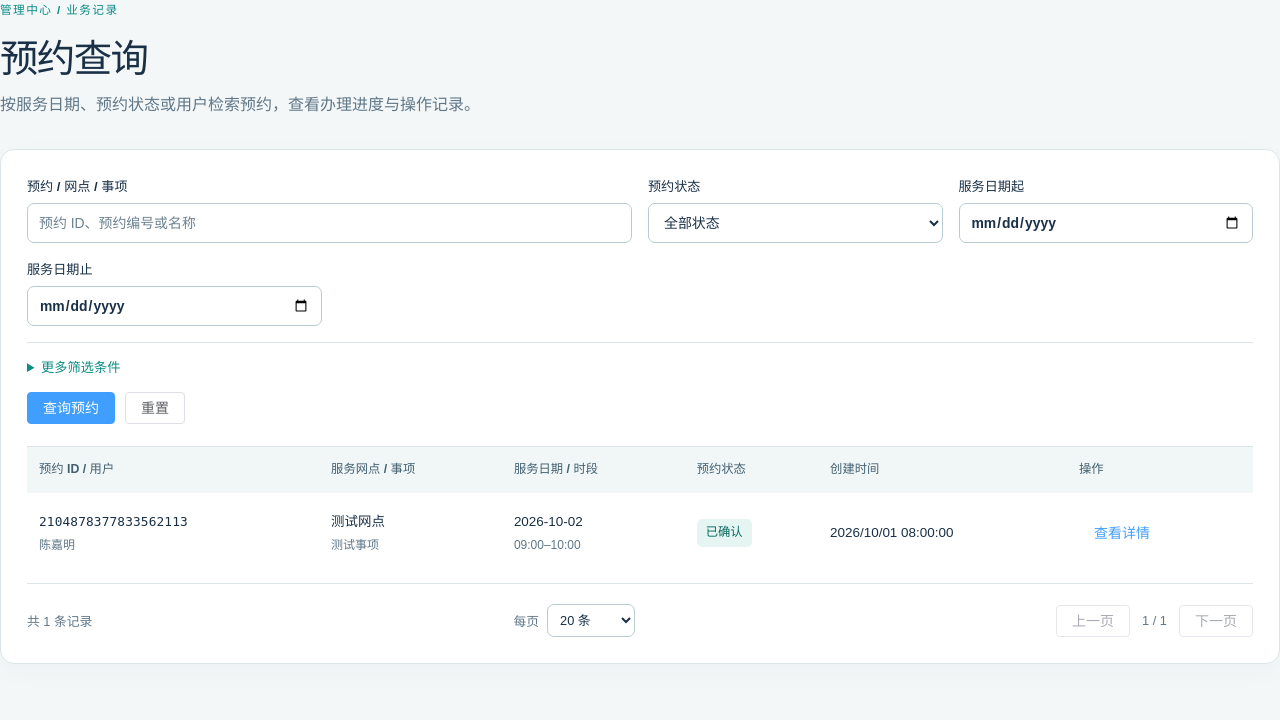
it: administrator query pages › queries server data with an exact ID and validates the date range
Check: the cell "2104878377833562113 陈嘉明" is shown, box [27,493,319,573]
Type "2104878377833562113" into the field with placeholder "预约 ID、预约编号或名称" at (330, 223), box [27,203,632,243]
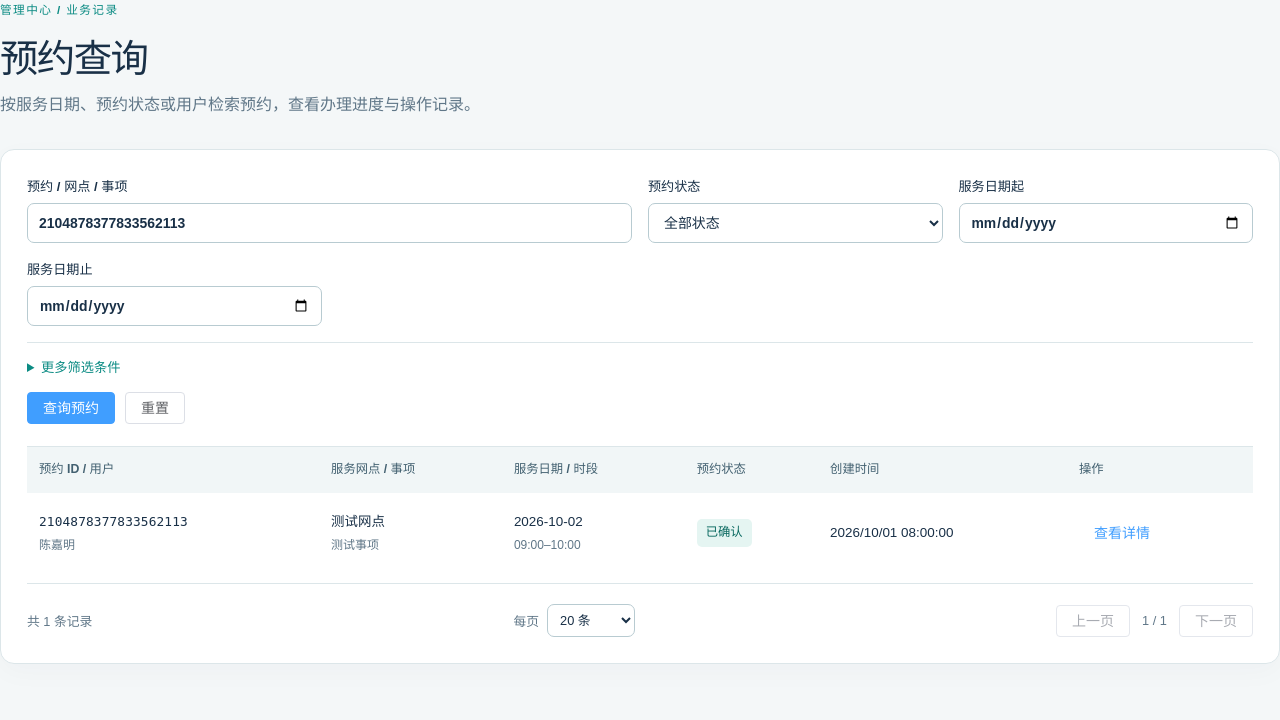
Submit the form, box [27,176,1253,424]
Type "2026-10-03" into the date field labelled "服务日期起" at (1106, 223), box [958,203,1253,243]
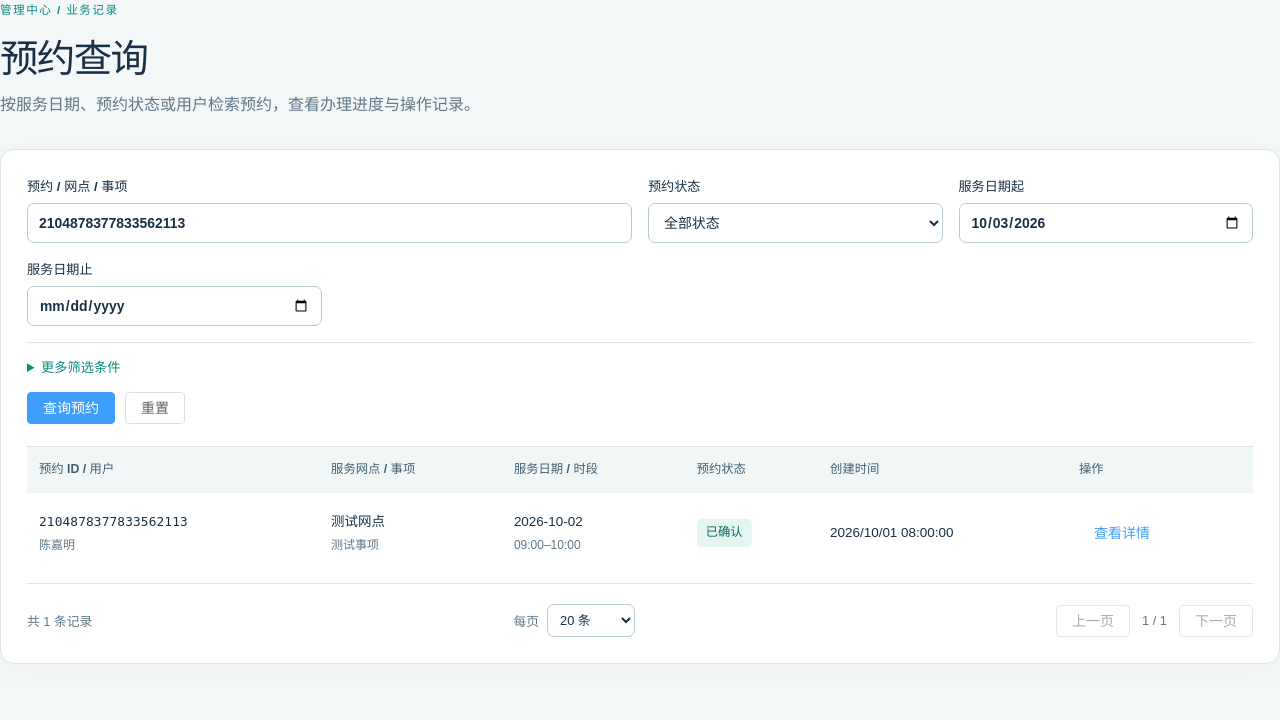
Type "2026-10-02" into the date field labelled "服务日期止" at (174, 306), box [27,286,322,326]
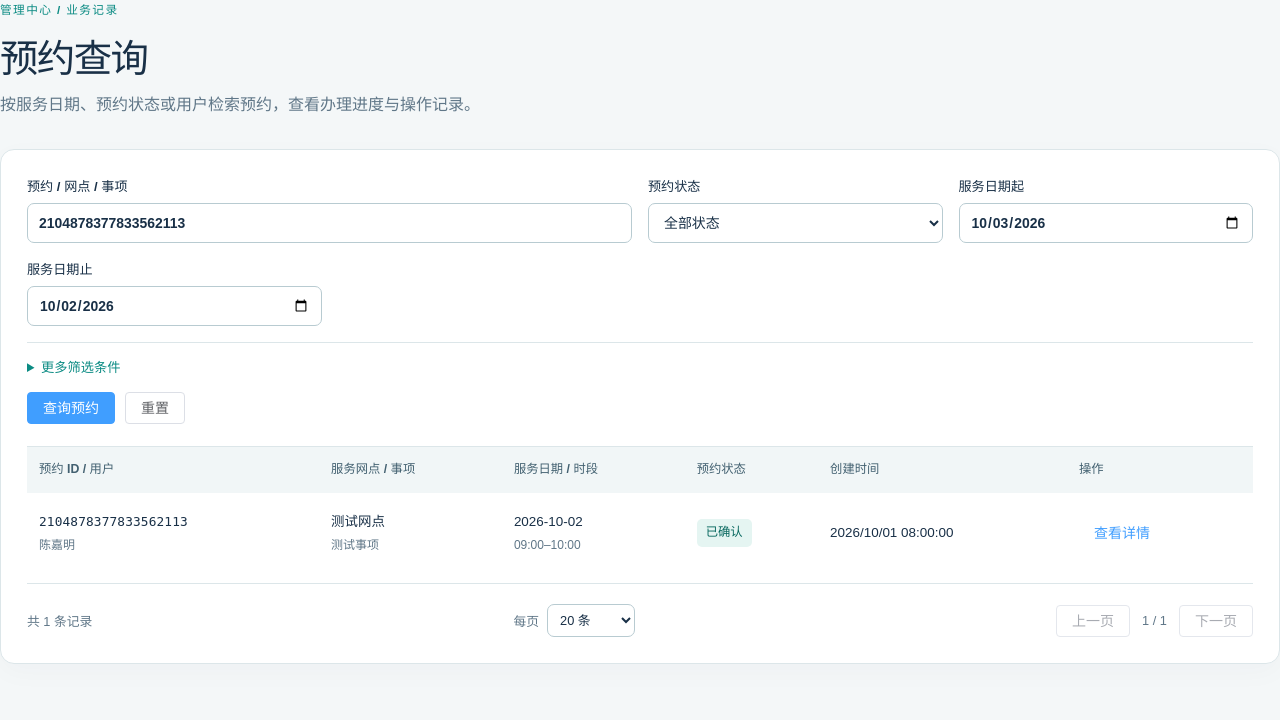
Submit the form, box [27,176,1253,424]
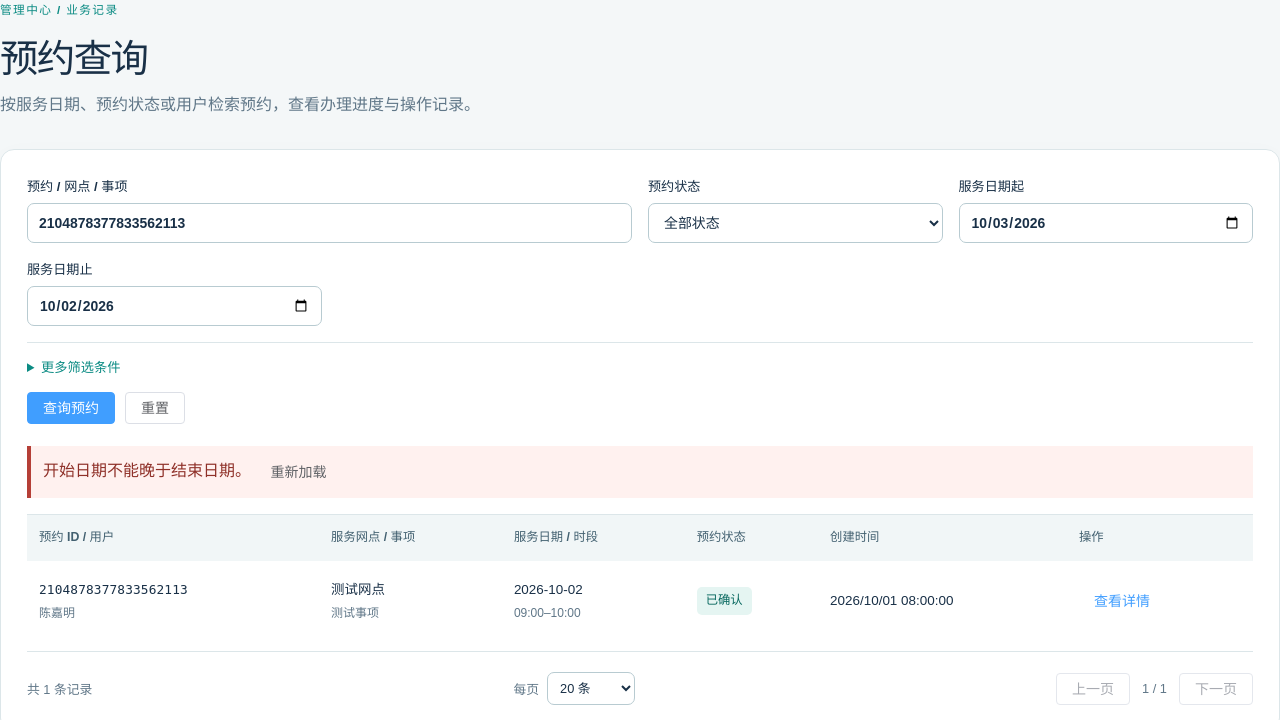
Check: the text "开始日期不能晚于结束日期" is shown, box [43,462,256,479]
